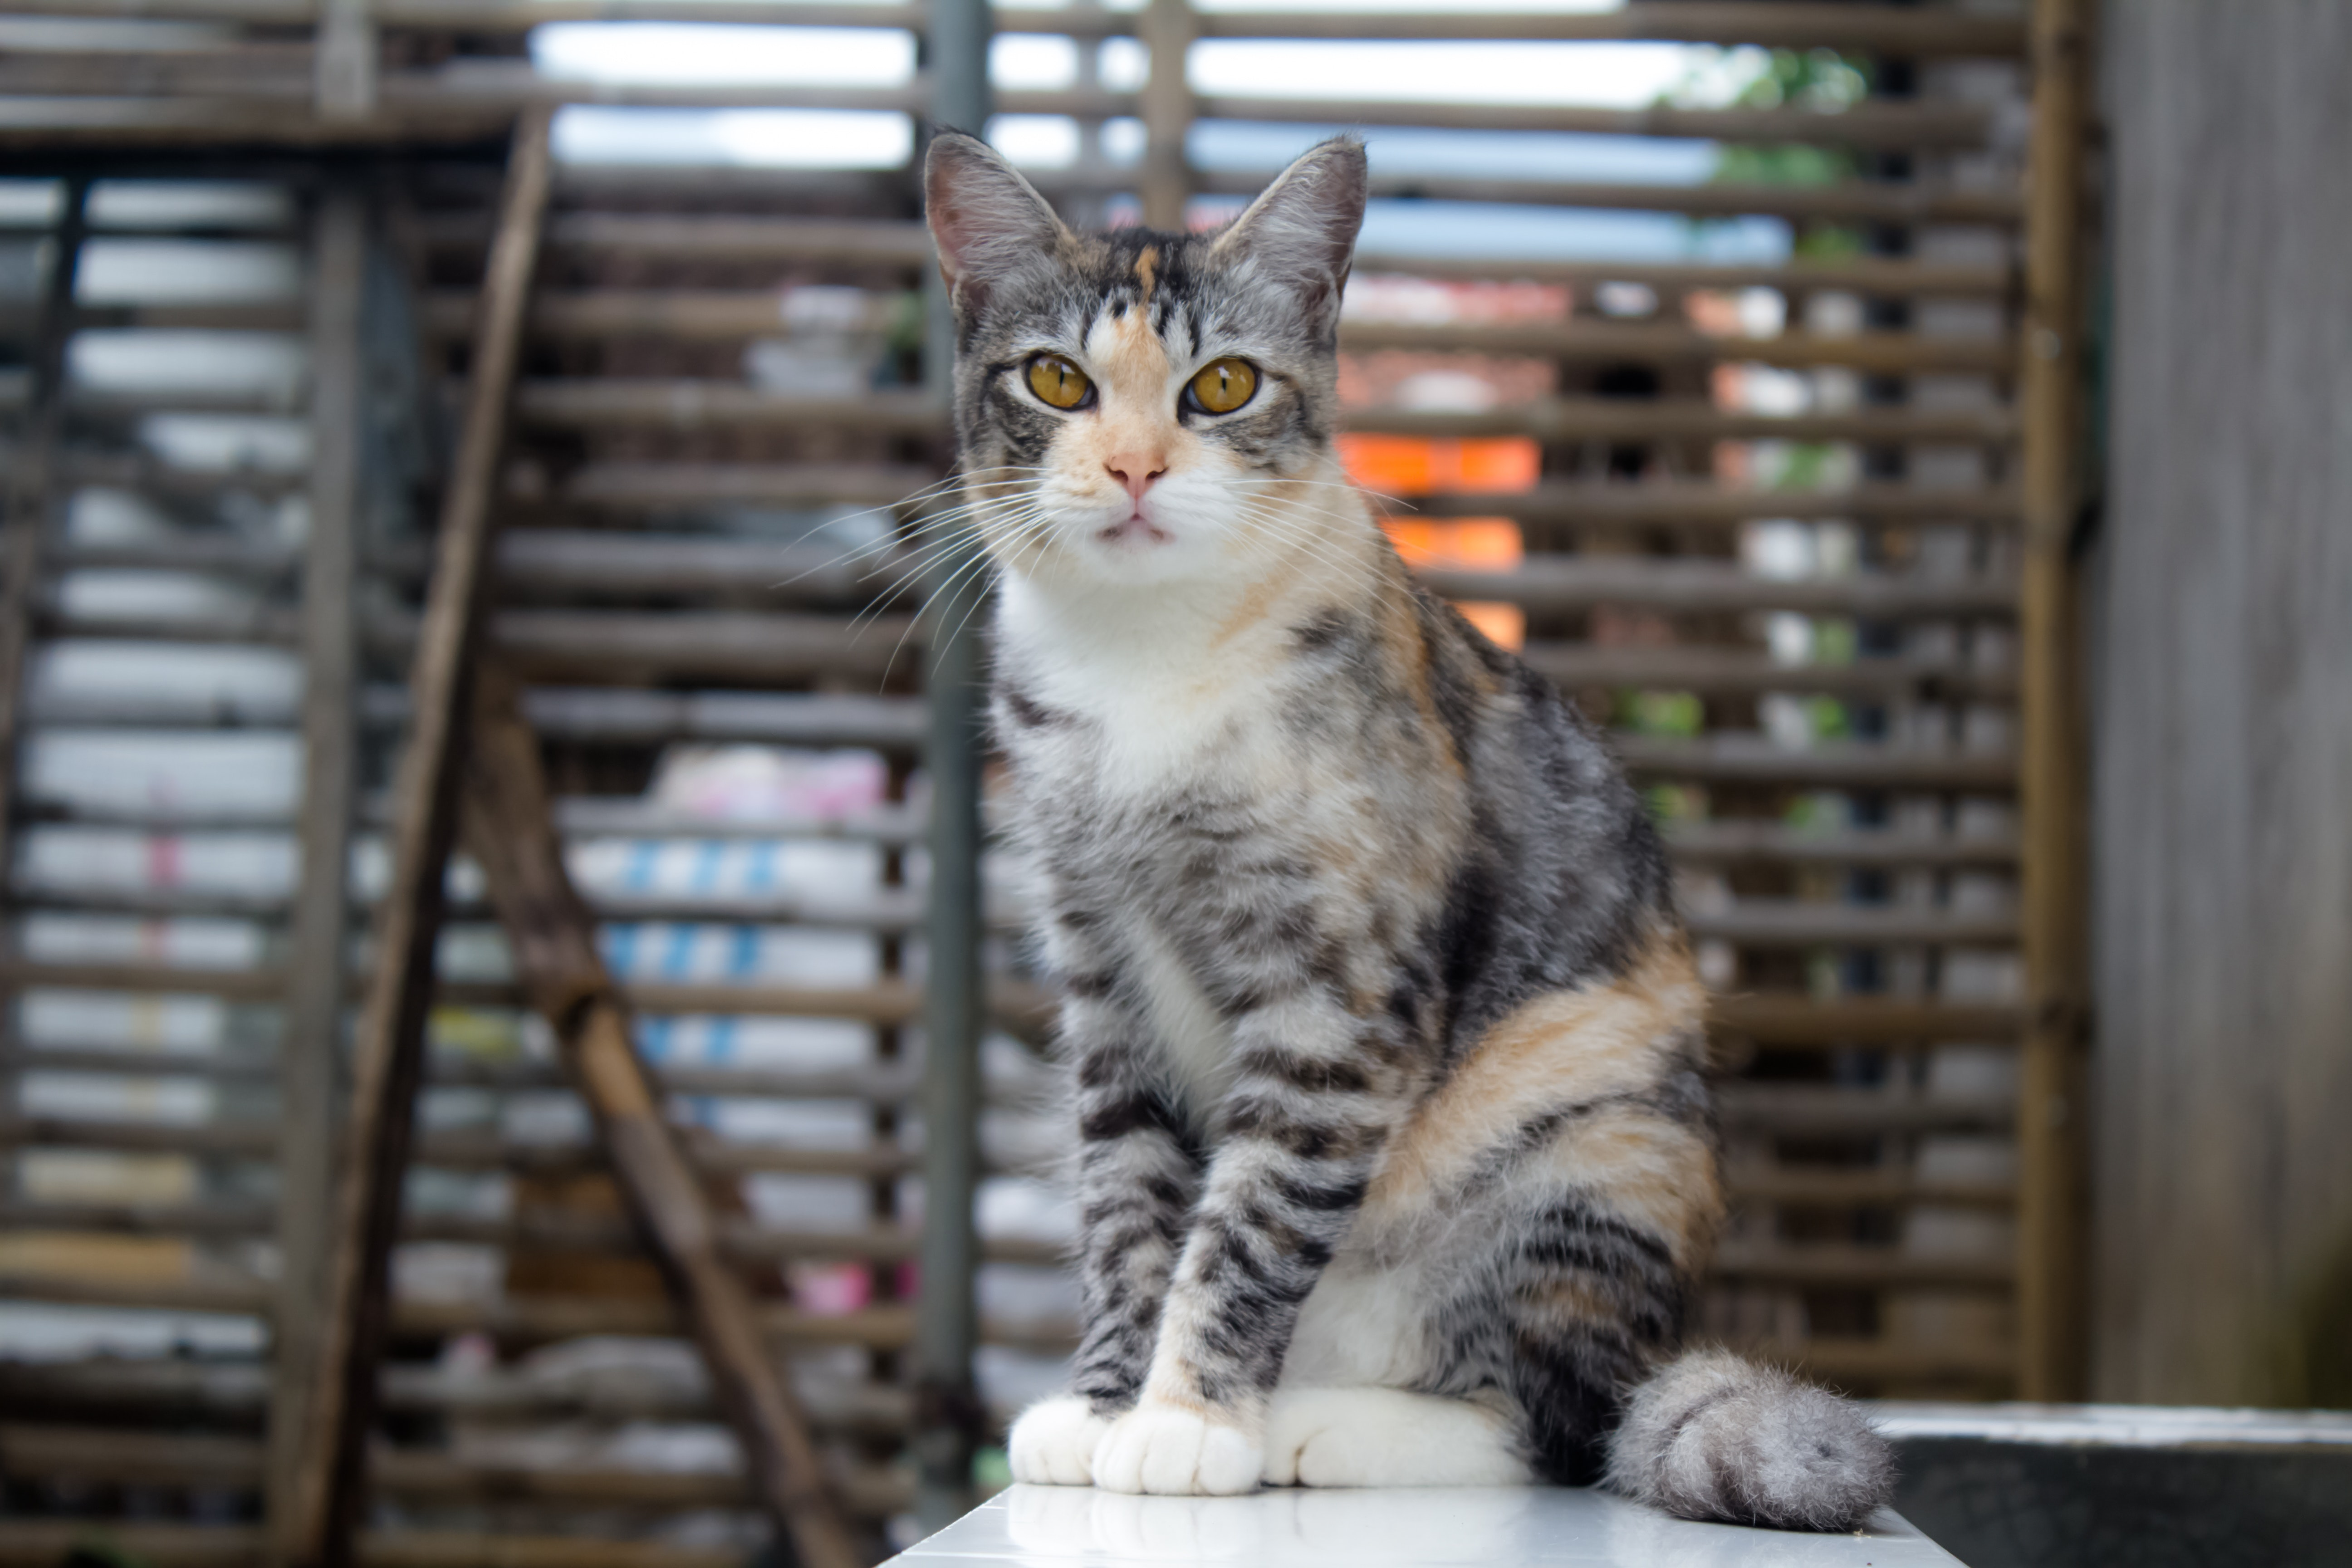cat: (824, 93, 1899, 1536)
cat-face: (845, 107, 1442, 656)
